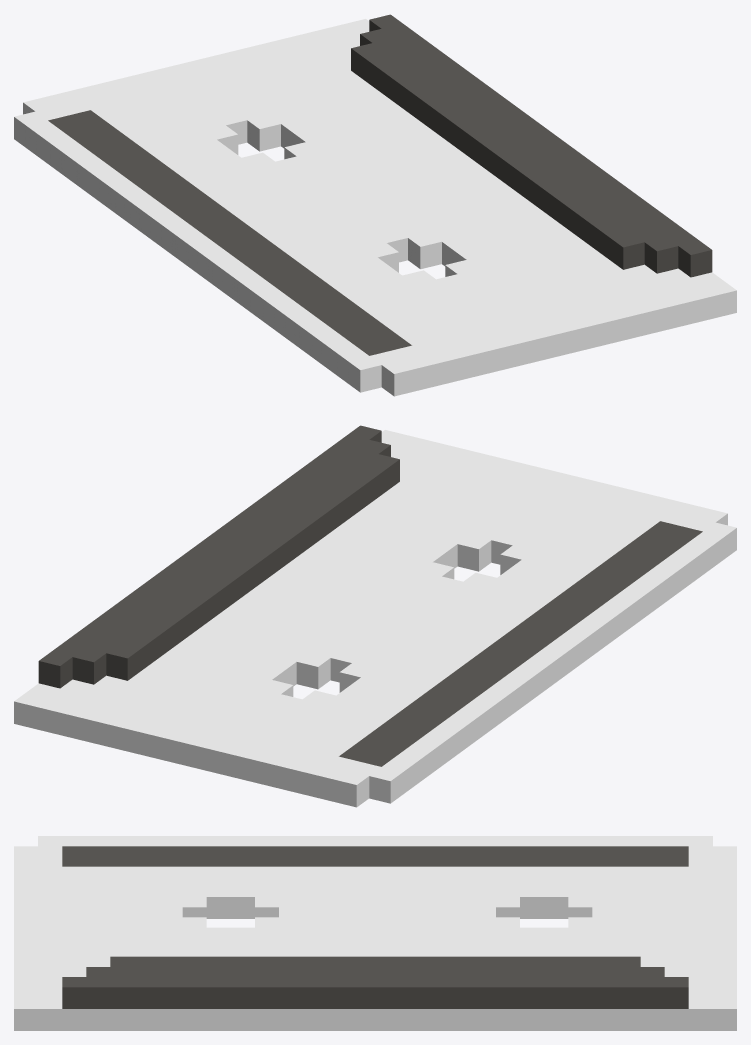
The model's file is audiocassetta.gltf.
The picture shows the model from 3 angles, top to bottom: view 1: azimuth 30°, elevation 25°; view 2: azimuth 150°, elevation 25°; view 3: azimuth 270°, elevation 25°; orthographic projection. The views are drawn at different scales.
Parts seen in each view (by area): view 1: Layer.1, Layer.3, Layer.2; view 2: Layer.1, Layer.3, Layer.2; view 3: Layer.1, Layer.3, Layer.2.
Part boxes in pixels (x1,y1,x2,y2): Layer.1: [14, 19, 736, 396]; Layer.3: [351, 14, 712, 277]; Layer.2: [48, 110, 411, 355]; Layer.1: [14, 430, 736, 807]; Layer.3: [38, 425, 399, 688]; Layer.2: [339, 521, 702, 766]; Layer.1: [14, 836, 736, 1030]; Layer.3: [62, 956, 688, 1008]; Layer.2: [62, 846, 688, 866].
Bounding box in the file's own units: 17 × 2 × 30.
Materials: 1 (1 with a texture image).
